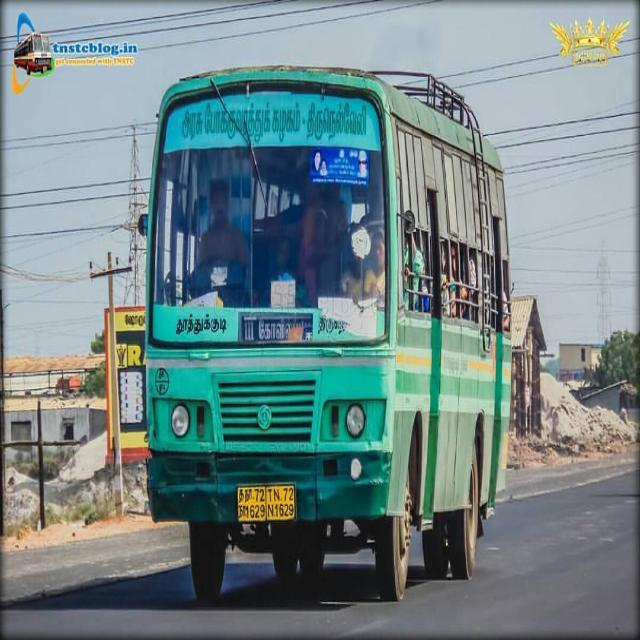Bus: (135, 55, 520, 602)
